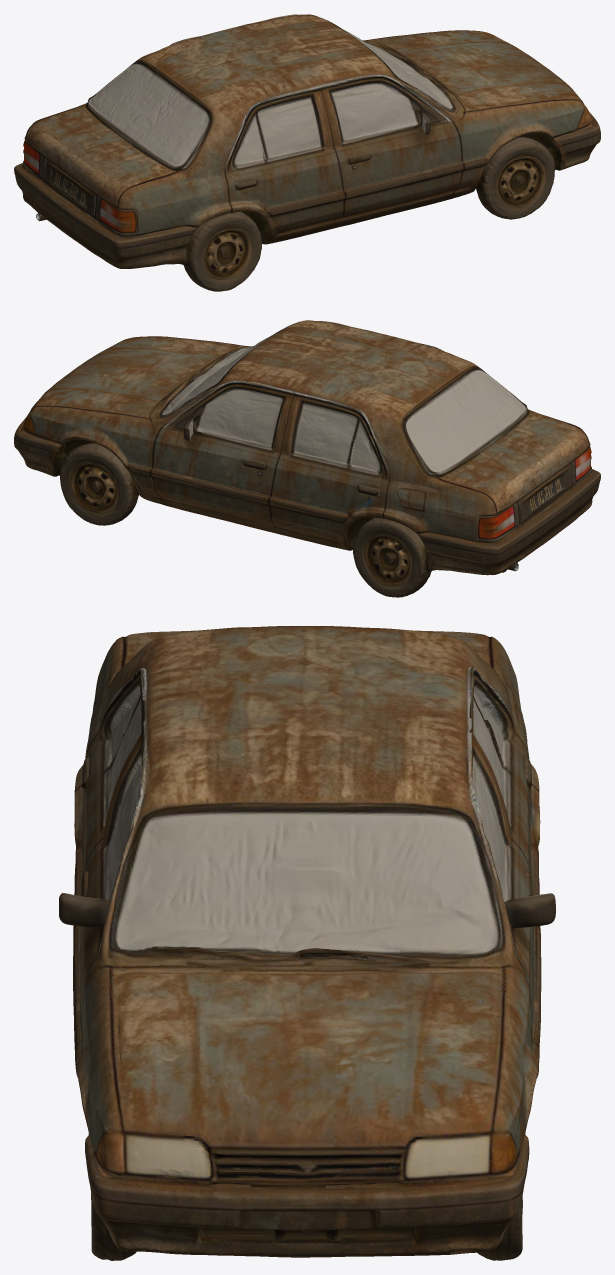
Rendered from tripo_convert_1752692f-4646-45f4-b71e-0e9f7dd7afab.obj.
3 views of the same model, one above another, from view 1: azimuth 30°, elevation 25°; view 2: azimuth 150°, elevation 25°; view 3: azimuth 270°, elevation 25° (orthographic). The views are drawn at different scales.
Visible parts, largest first — view 1: tripo_node_1752692f-4646-45f4-b71e-0e9f7dd7afab; view 2: tripo_node_1752692f-4646-45f4-b71e-0e9f7dd7afab; view 3: tripo_node_1752692f-4646-45f4-b71e-0e9f7dd7afab.
Part boxes in pixels (box(x1,y1,x2,y2)): tripo_node_1752692f-4646-45f4-b71e-0e9f7dd7afab: box(14, 14, 600, 291); tripo_node_1752692f-4646-45f4-b71e-0e9f7dd7afab: box(14, 320, 600, 597); tripo_node_1752692f-4646-45f4-b71e-0e9f7dd7afab: box(59, 626, 555, 1260).
Size of the model in its own units: 1 by 0.3427 by 0.4299.
1 material, 1 textured.
